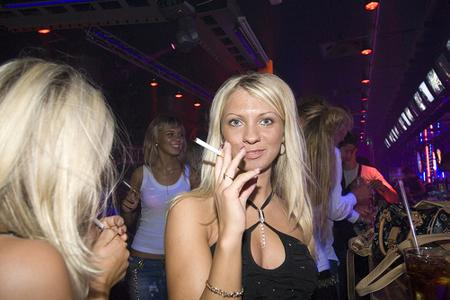person: (164, 72, 322, 300)
